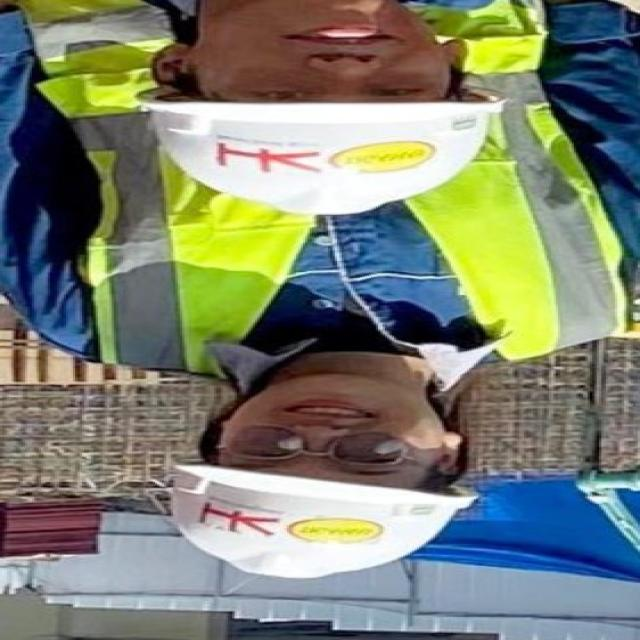safetyhelmet: (153, 25, 504, 219), (164, 401, 478, 578)
